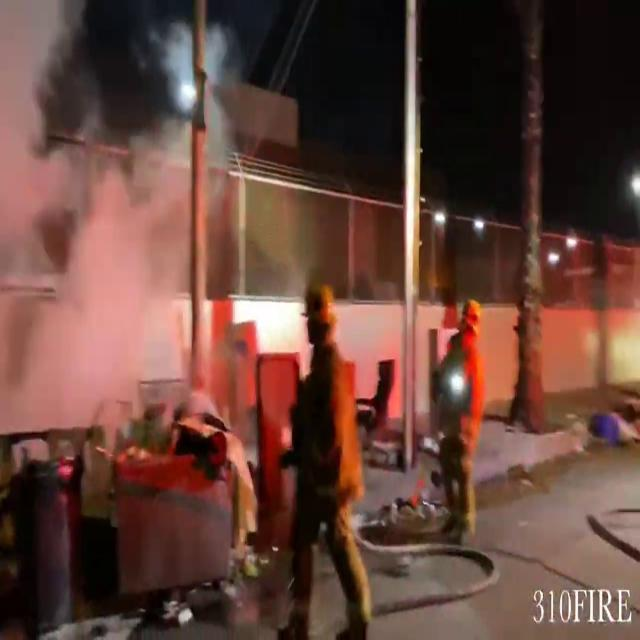Smoke: (0, 1, 186, 407)
